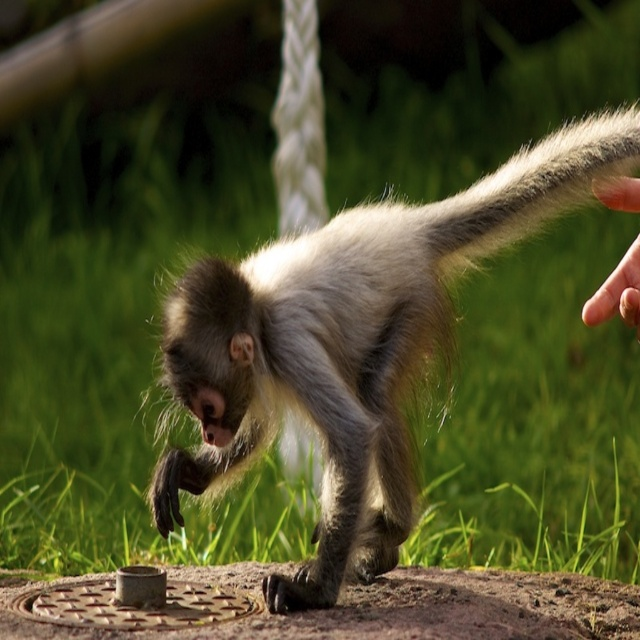Monkey: (128, 97, 640, 616)
